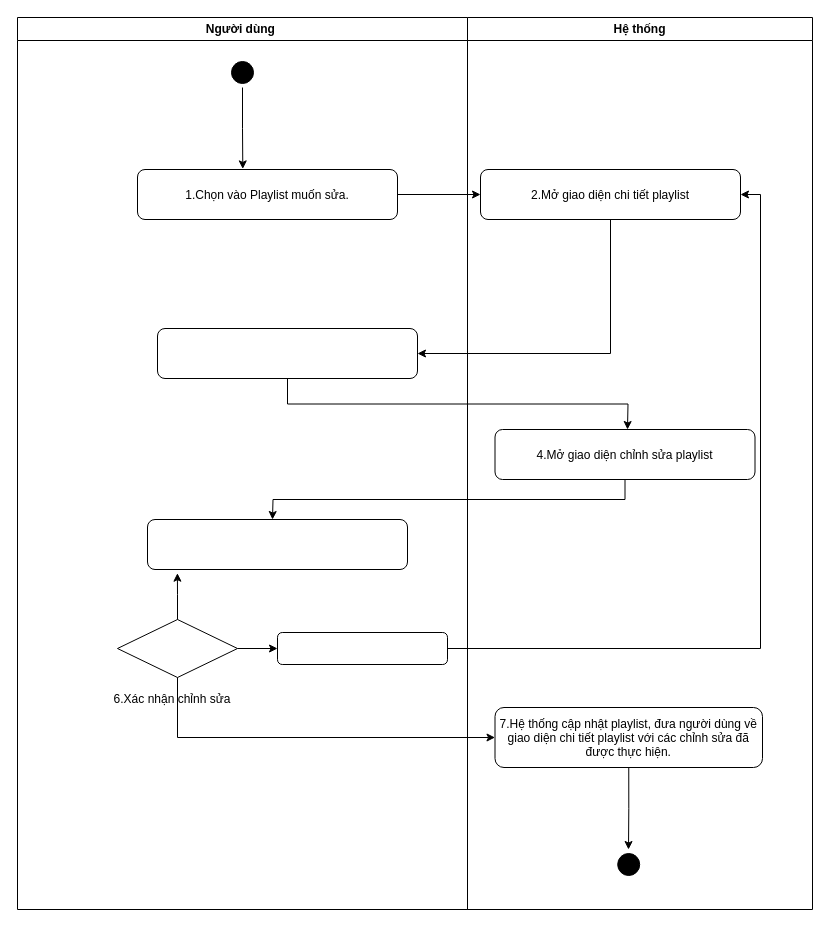
Some shapes in this 830 by 927 pixel diagram are drawn without their labels. The box of each missing label's shape, as (x1, y1, x2, y2) in pixels:
3.Chọn "Chỉnh sửa" trong giao diện: (156, 328, 418, 378)
5.Chỉnh sửa playlist theo ý muốn người dùng (Thêm nhạc vào playlist,sửa tên,vv): (146, 518, 408, 570)
6.1 Chọn huỷ chỉnh sửa: (276, 632, 448, 664)
